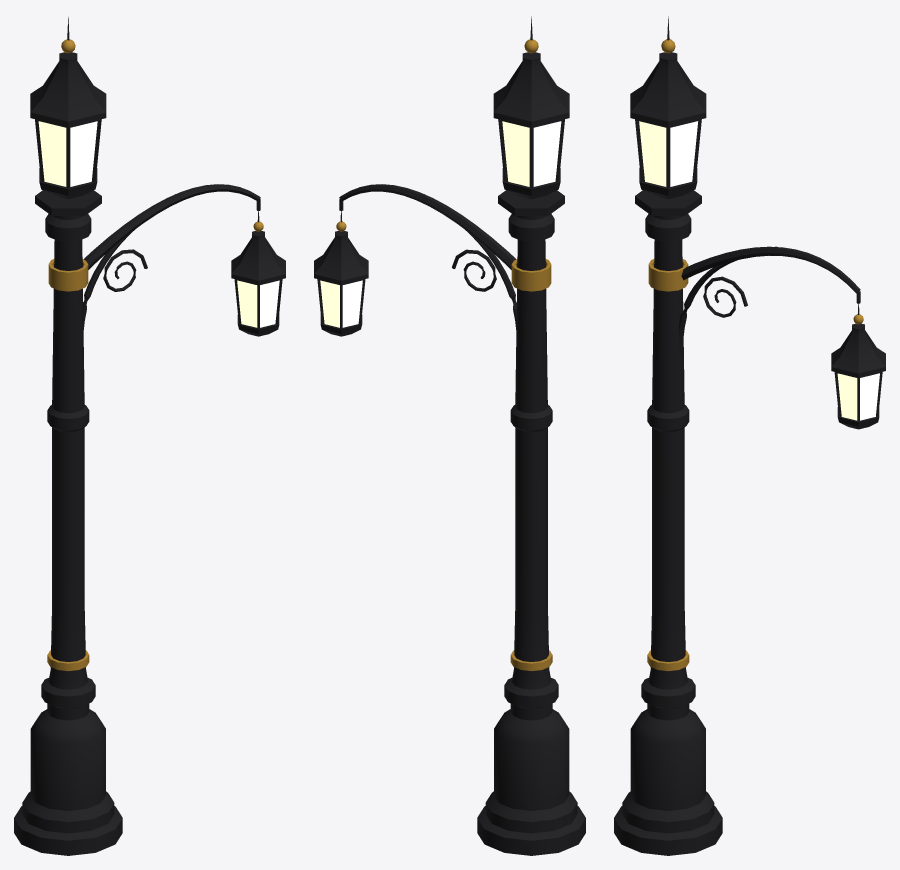
File: farol-calle.glb
3 views of the same model, side by side, from view 1: azimuth 30°, elevation 25°; view 2: azimuth 150°, elevation 25°; view 3: azimuth 330°, elevation 25° (orthographic).
Parts seen in each view (by area): view 1: Farol_Calle_HierroForjado, Farol_Calle_VidrioLuz, Farol_Calle_DetalleDorado; view 2: Farol_Calle_HierroForjado, Farol_Calle_VidrioLuz, Farol_Calle_DetalleDorado; view 3: Farol_Calle_HierroForjado, Farol_Calle_VidrioLuz, Farol_Calle_DetalleDorado.
Boxes of the visible parts, <box> form: Farol_Calle_HierroForjado: <box>14,17,285,855</box>; Farol_Calle_VidrioLuz: <box>38,121,279,327</box>; Farol_Calle_DetalleDorado: <box>47,39,263,671</box>; Farol_Calle_HierroForjado: <box>314,16,585,855</box>; Farol_Calle_VidrioLuz: <box>320,121,561,327</box>; Farol_Calle_DetalleDorado: <box>336,39,552,671</box>; Farol_Calle_HierroForjado: <box>614,16,885,855</box>; Farol_Calle_VidrioLuz: <box>639,121,879,420</box>; Farol_Calle_DetalleDorado: <box>647,39,863,671</box>.
Size of the model in its own units: 1.46 by 4.32 by 0.52.
